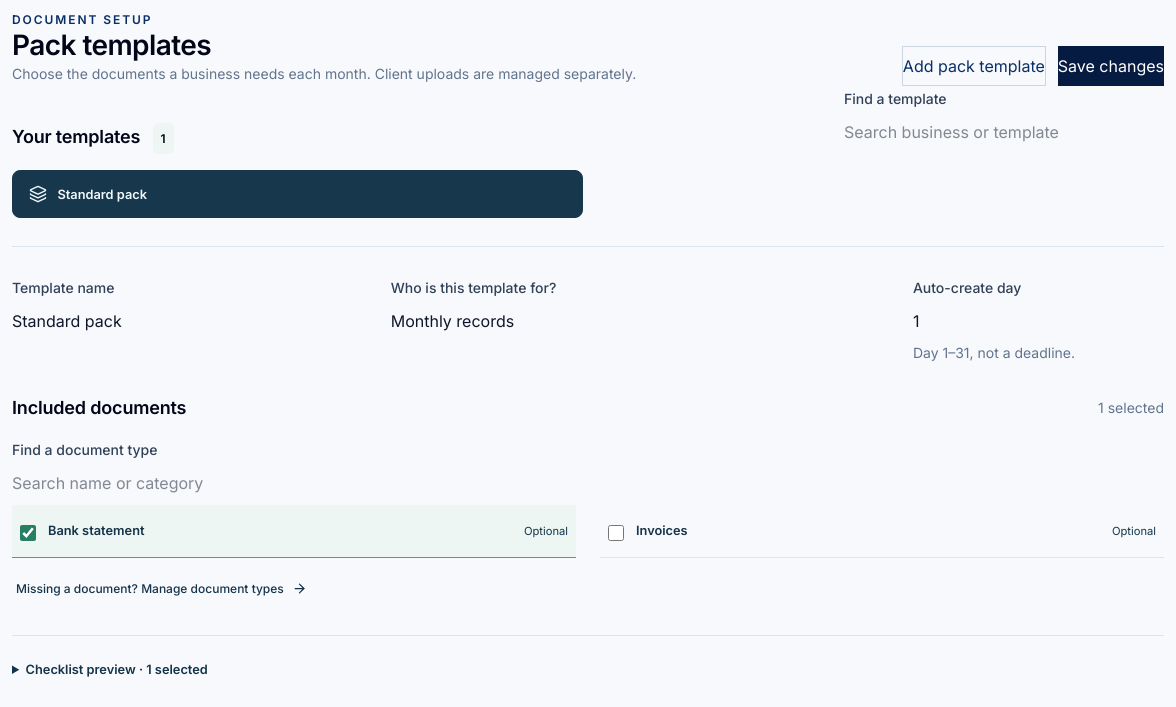
Test: admin monthly packs › loads existing selections and saves their IDs through the original API
Expected: the checkbox labelled "Bank statement" is checked, [20,525,36,541]
Click the checkbox labelled "Invoices". click: (616, 533)
box: [608,525,624,541]
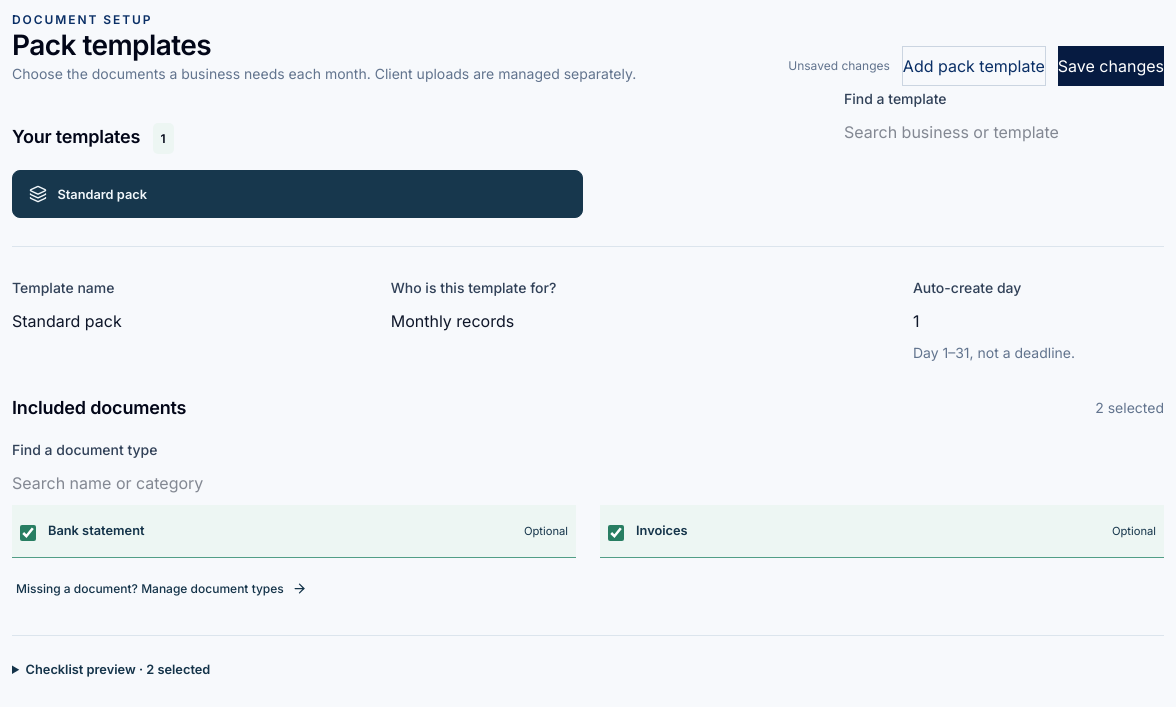
Click the button "Save changes". click: (1111, 66)
box: [1058,46,1164,86]
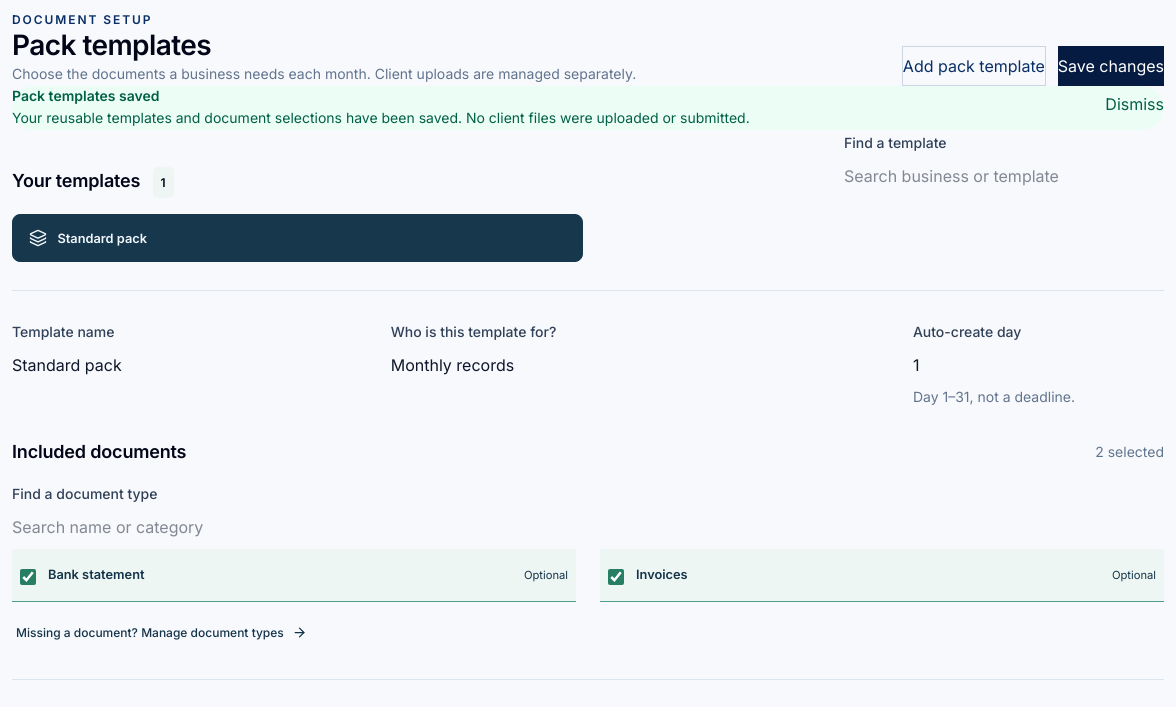
Now the text "Pack templates saved" is shown, box [12,87,160,104]
